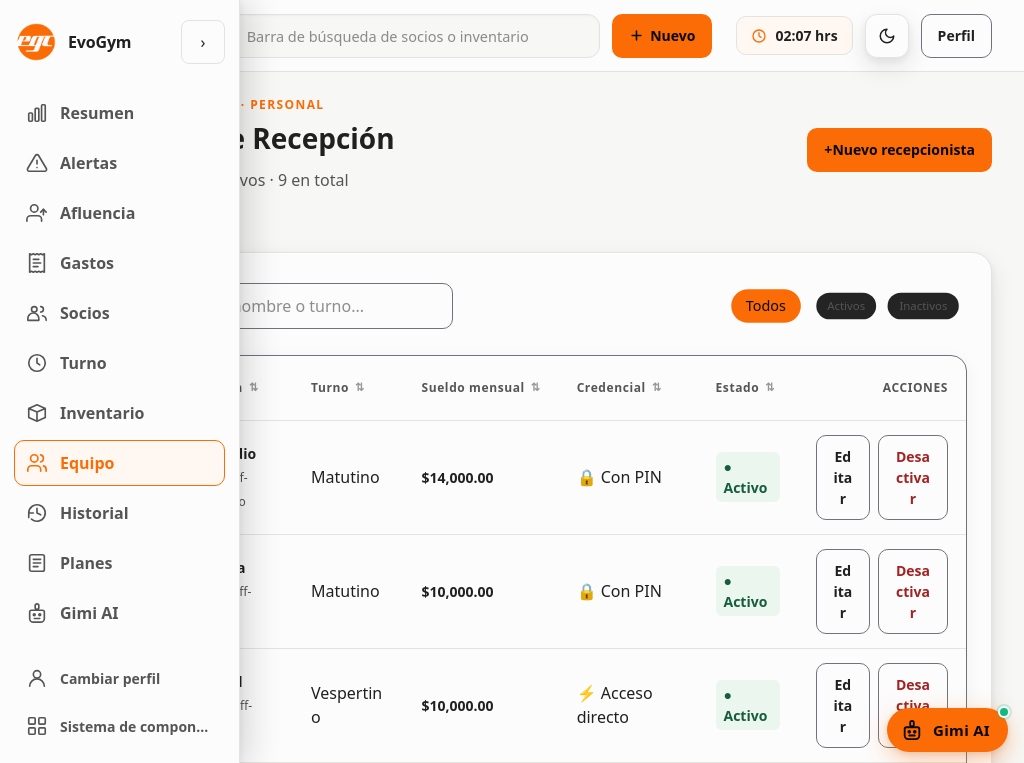
Test case: StaffManagement (T02 — Admin Staff Management) › toggles staff active/inactive status and reflects in profile selection
Note: Sheila is the second receptionist
Step 1. Click the button "Desactivar" in the row of "staff-sheila" → {"x": 913, "y": 591}, box [878,549,948,634]
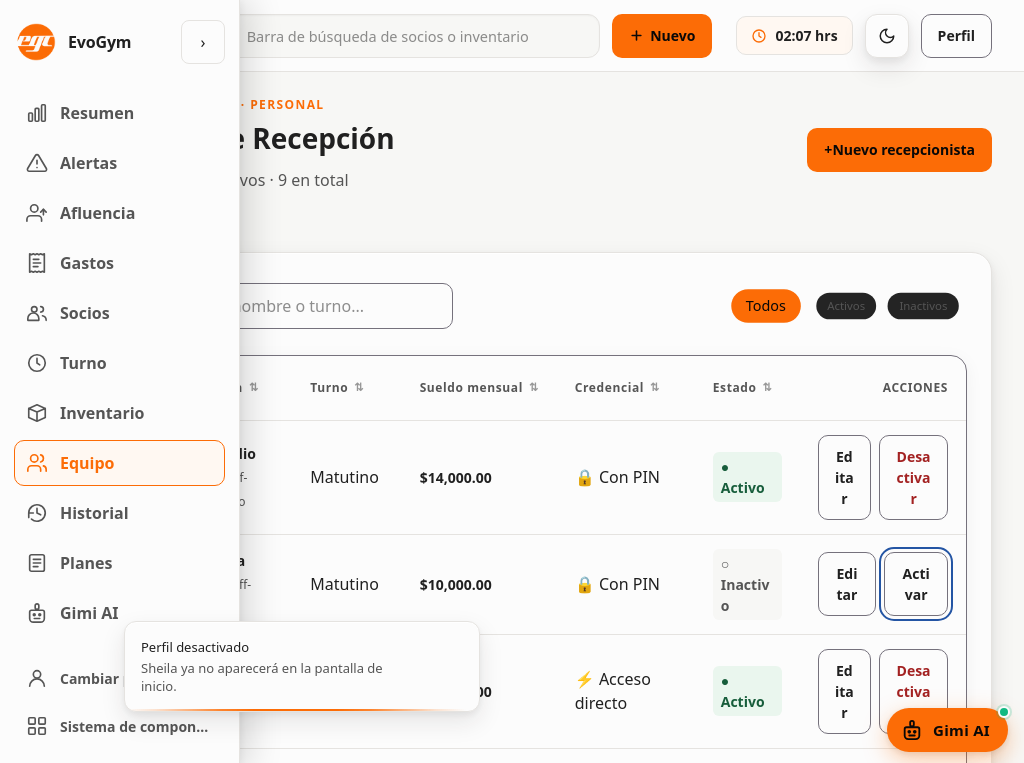
Expected: the button "Activar" is shown, [884,552,948,616]
Expected: the text "Sheila ya no aparecerá en la pantalla de inicio." is shown, [141,659,411,695]
